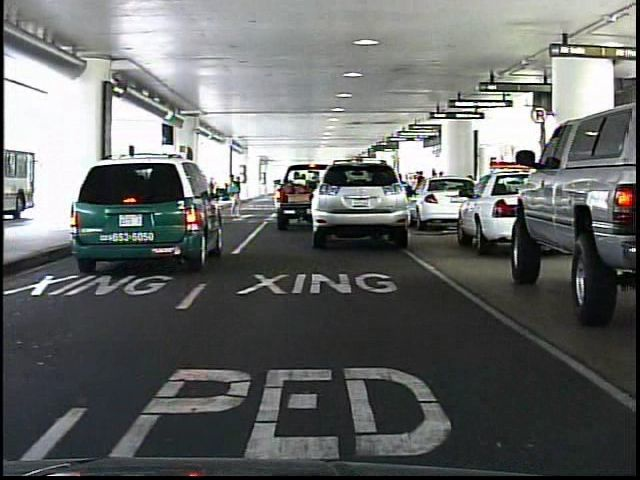person: (222, 168, 245, 222)
